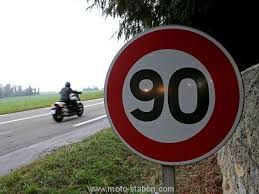Speed_limit_90km: (101, 24, 243, 164)
